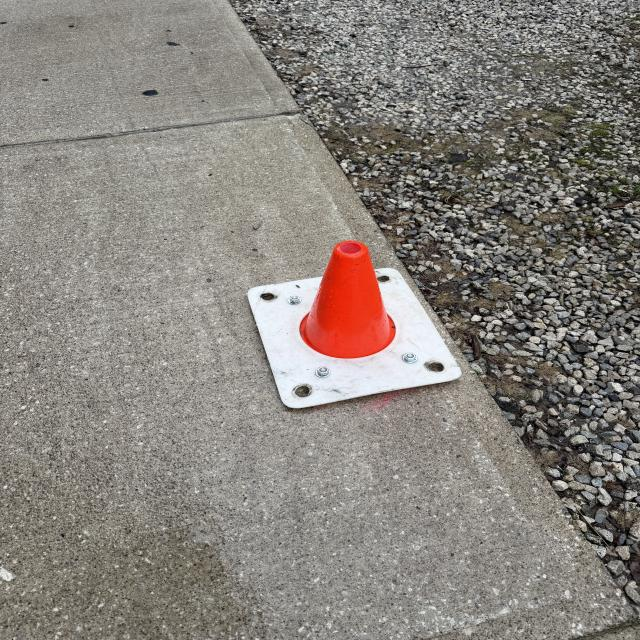Traffic Cone: (246, 240, 464, 410)
